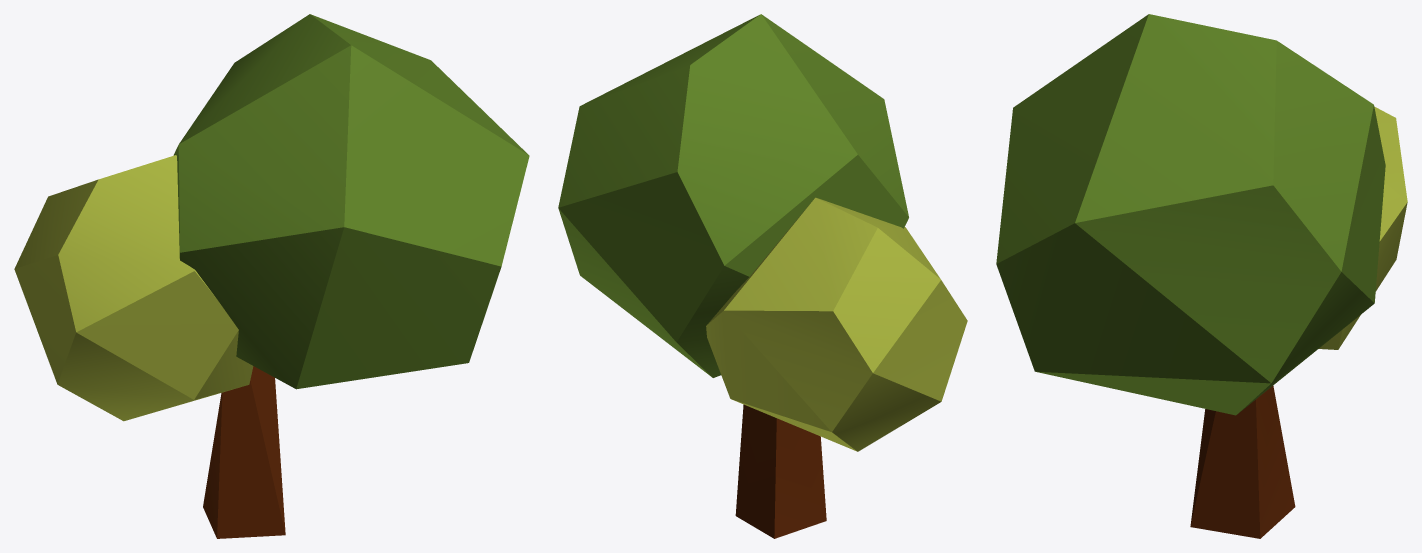
Rendered from Tree Small 1.fbx.
3 renders of one model, left to right at view 1: azimuth 30°, elevation 25°; view 2: azimuth 150°, elevation 25°; view 3: azimuth 270°, elevation 25°, orthographic. The views are drawn at different scales.
Visible parts, largest first — view 1: Tree_Small_01; view 2: Tree_Small_01; view 3: Tree_Small_01.
Boxes of the visible parts, <box> form: Tree_Small_01: <box>14,14,529,538</box>; Tree_Small_01: <box>558,14,967,538</box>; Tree_Small_01: <box>996,14,1407,538</box>.
Bounding box in the file's own units: 152 × 182 × 126.
